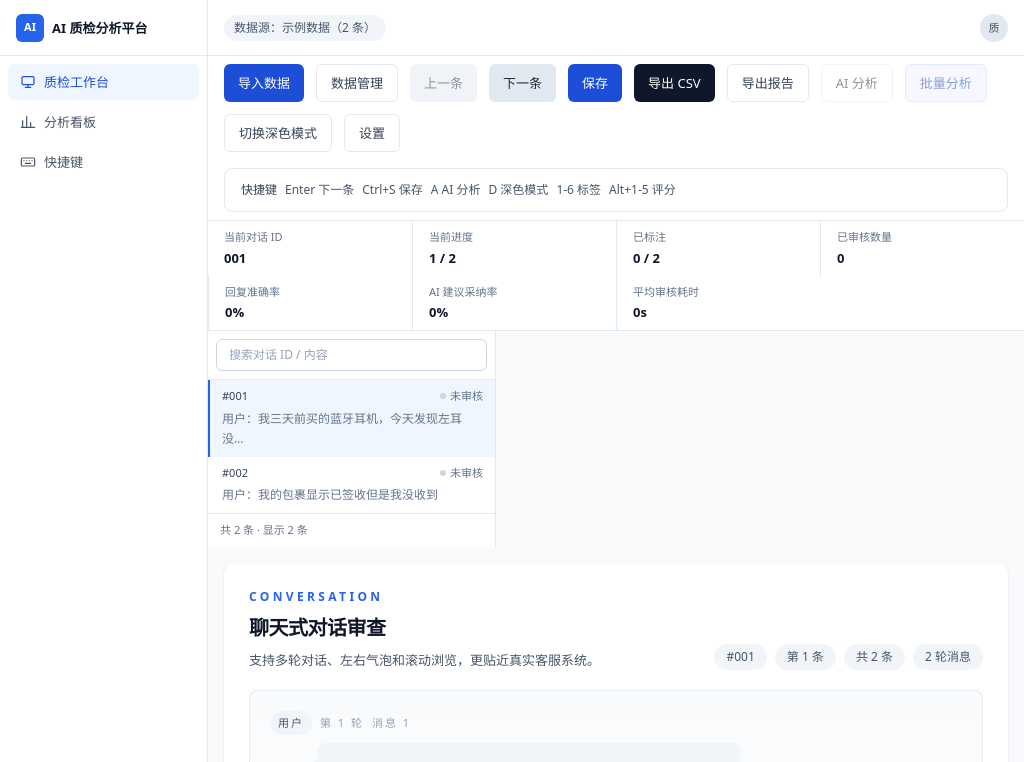
Test case: A. 设置保存与运行时生效 › 设置默认并发 2 保存 → 打开批量分析面板 combobox 默认值为 2
expect the button "导出报告" is shown: met, box [727,64,809,102]
Click the button "设置" at [372, 133], box [344,114,400,152]
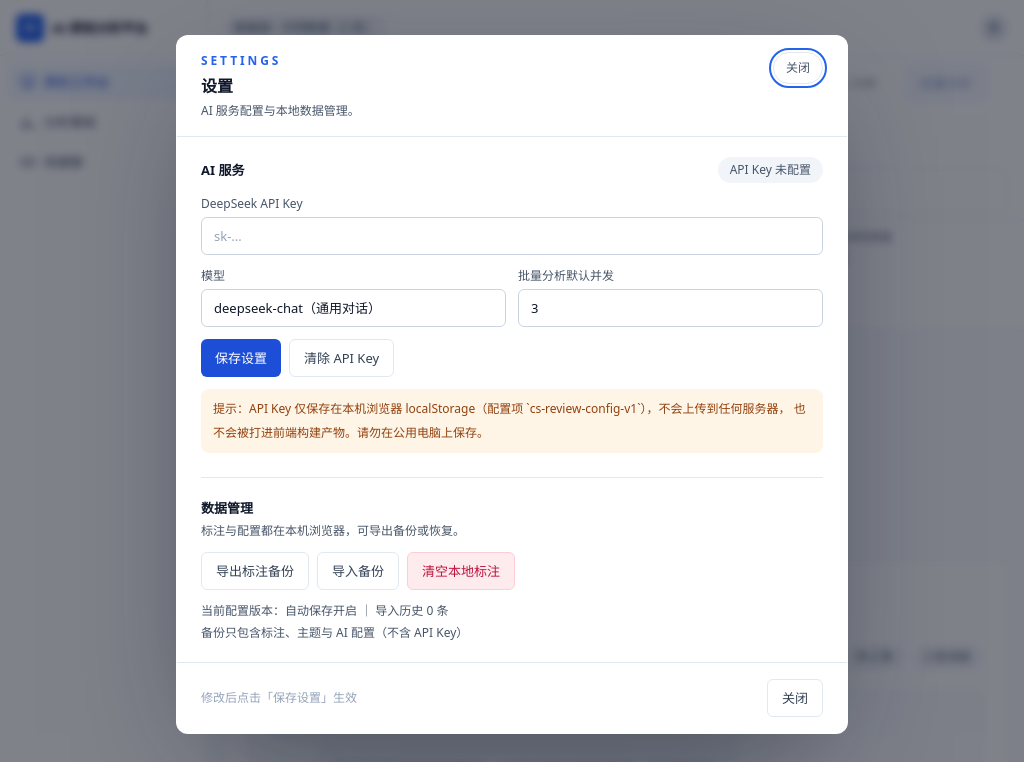
expect the heading "设置" is shown: met, box [201,74,233,96]
Type "sk-batch" into the password field labelled "DeepSeek API Key" at [512, 236], box [201,216,823,254]
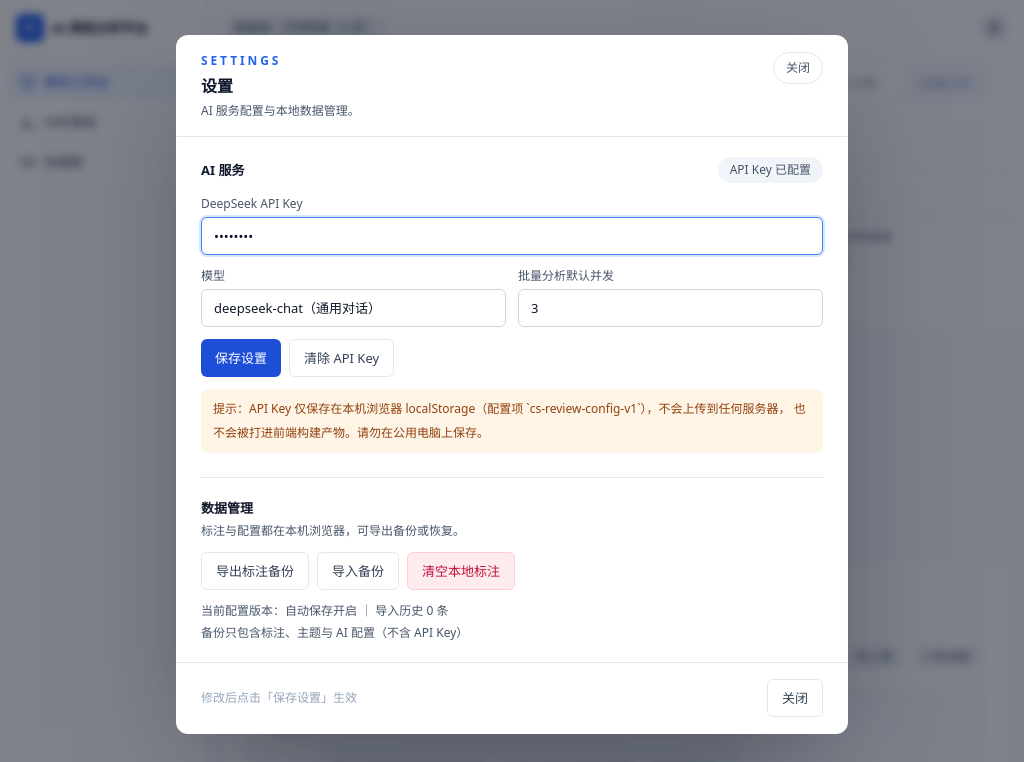
Select "2" in the dropdown labelled "批量分析默认并发" at [670, 308], box [518,288,823,326]
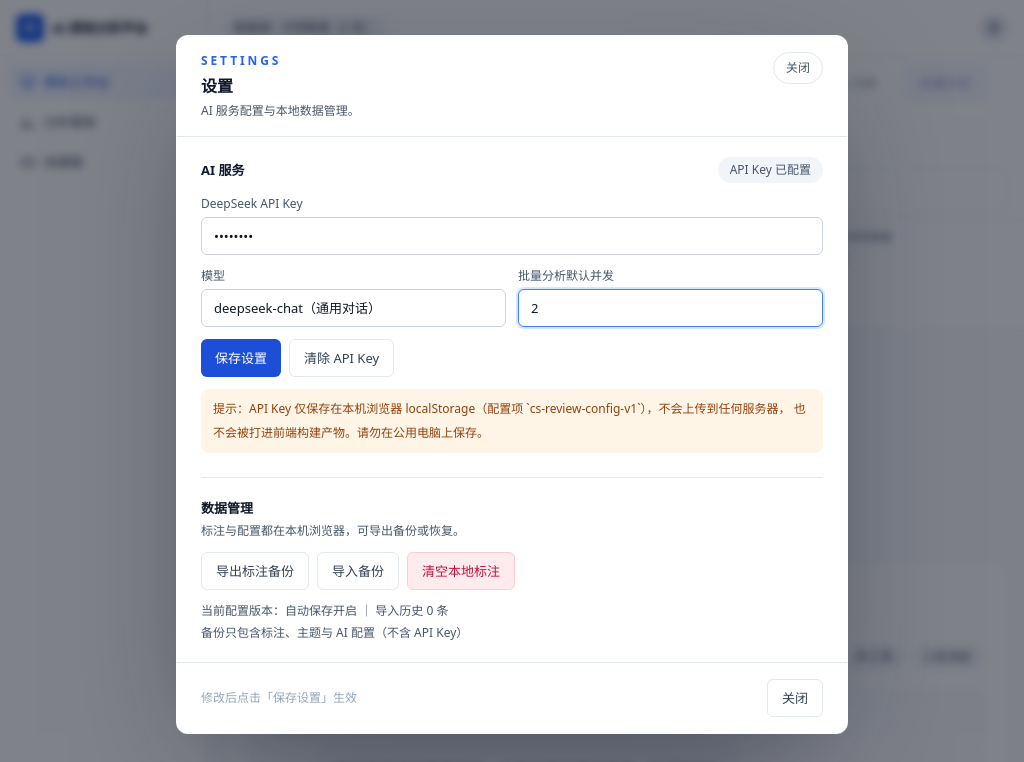
Click the button "保存设置" at [241, 358], box [201,338,281,376]
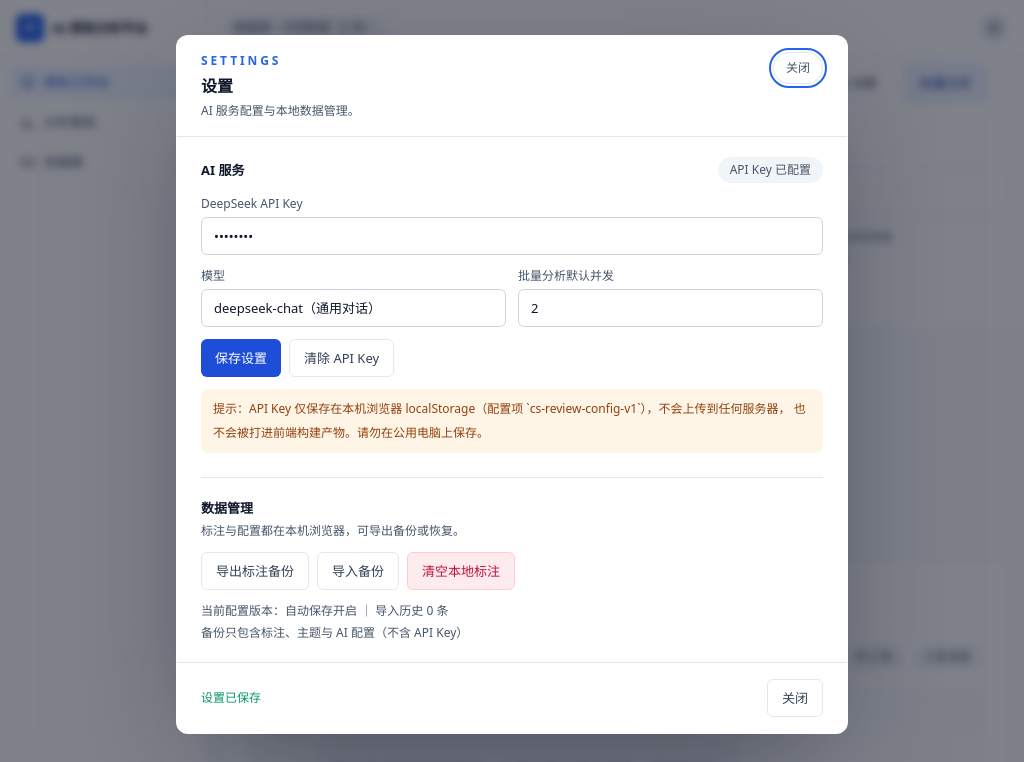
Click the button "关闭" in the row of "Settings" at [798, 68], box [773,52,823,84]
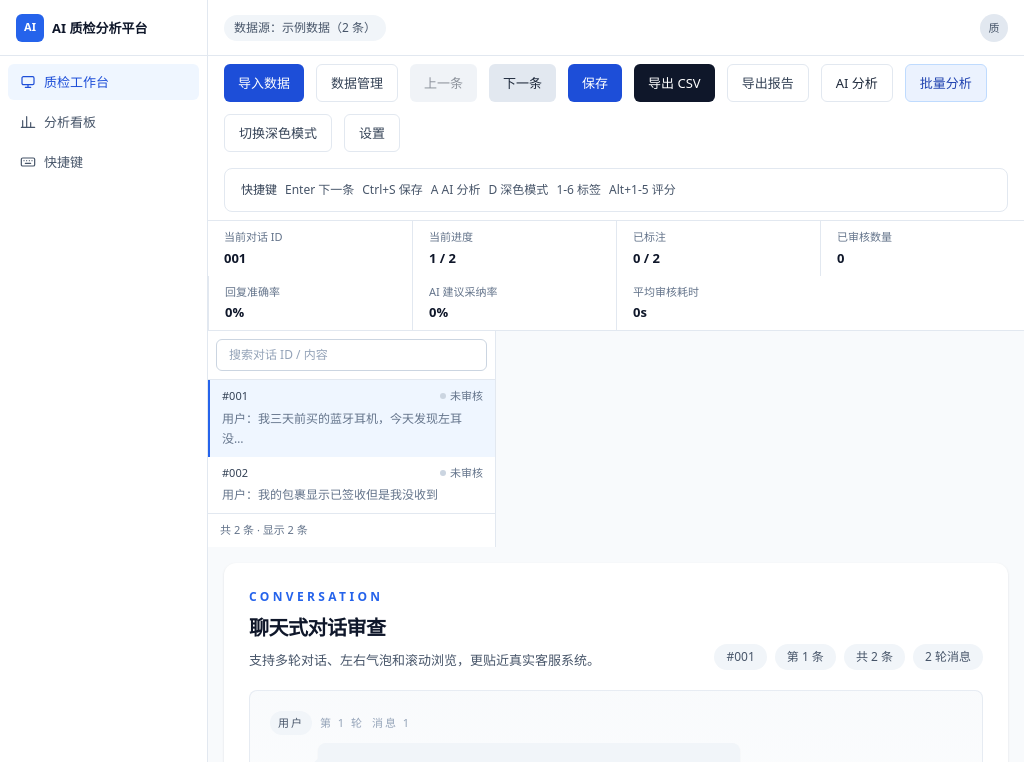
Click the button "批量分析" at [946, 83], box [905,64,987,102]
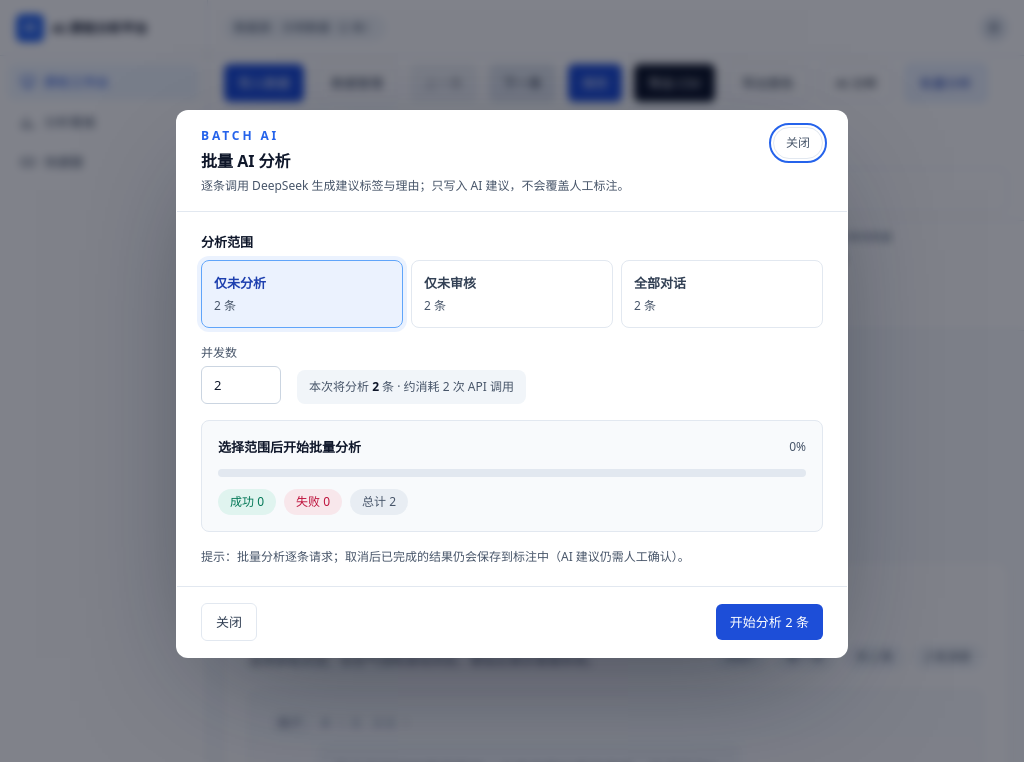
expect the heading "批量 AI 分析" is shown: met, box [201,150,291,172]
expect the dropdown shows "2": met, box [201,366,281,404]
